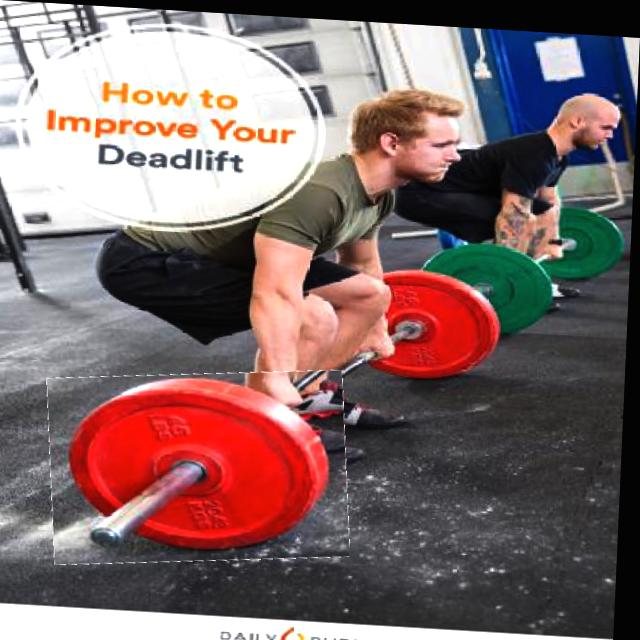barbell: (49, 359, 358, 572)
